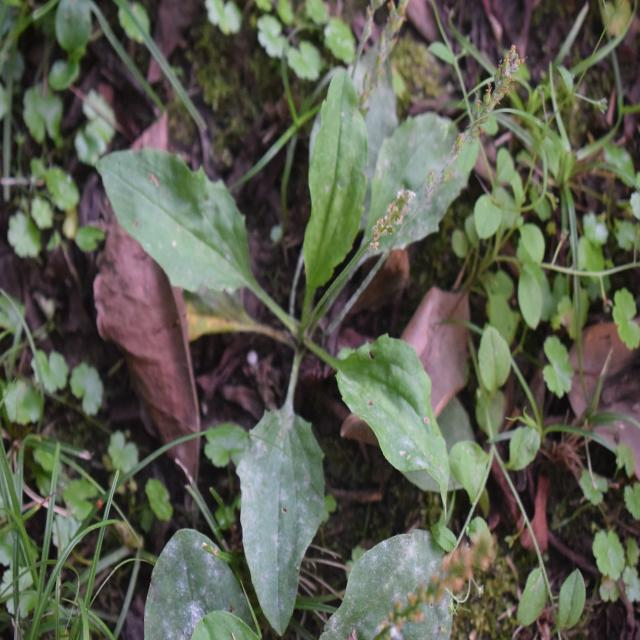plantain: (120, 79, 464, 532)
